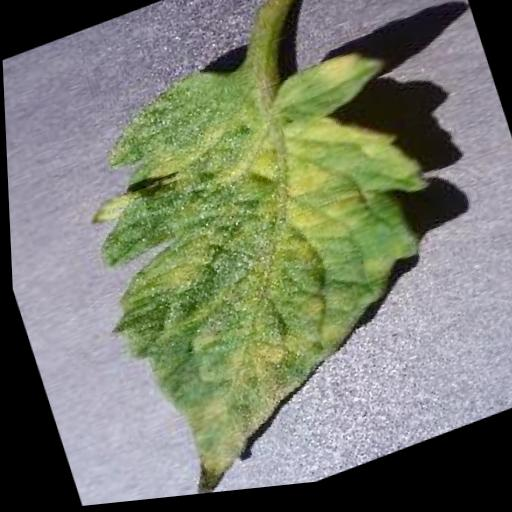Leaf Mold: (42, 8, 488, 509)
